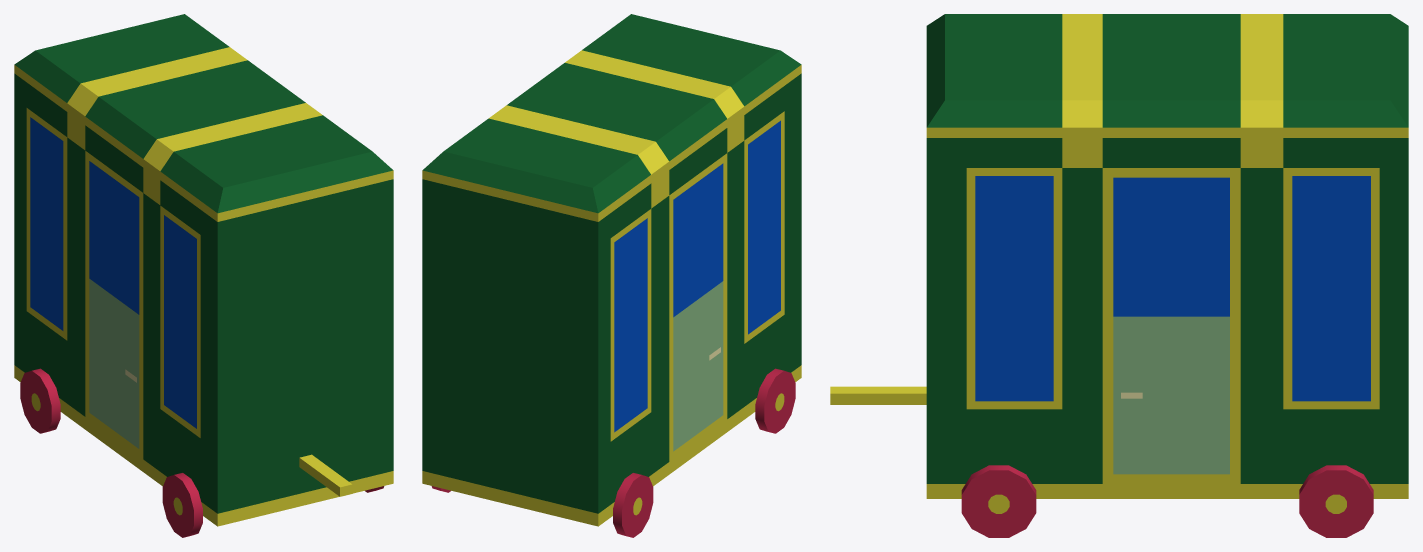
Rendered from Wagon02.fbx.
3 views of the same model, side by side, from view 1: azimuth 30°, elevation 25°; view 2: azimuth 150°, elevation 25°; view 3: azimuth 270°, elevation 25° (orthographic). The views are drawn at different scales.
Visible parts, largest first — view 1: Wagon02; view 2: Wagon02; view 3: Wagon02.
Boxes of the visible parts, x1,y1,x2,y2 form: Wagon02: (14,14,393,537); Wagon02: (422,14,801,537); Wagon02: (830,14,1408,537).
Bounding box in the file's own units: 110 × 194 × 240.
